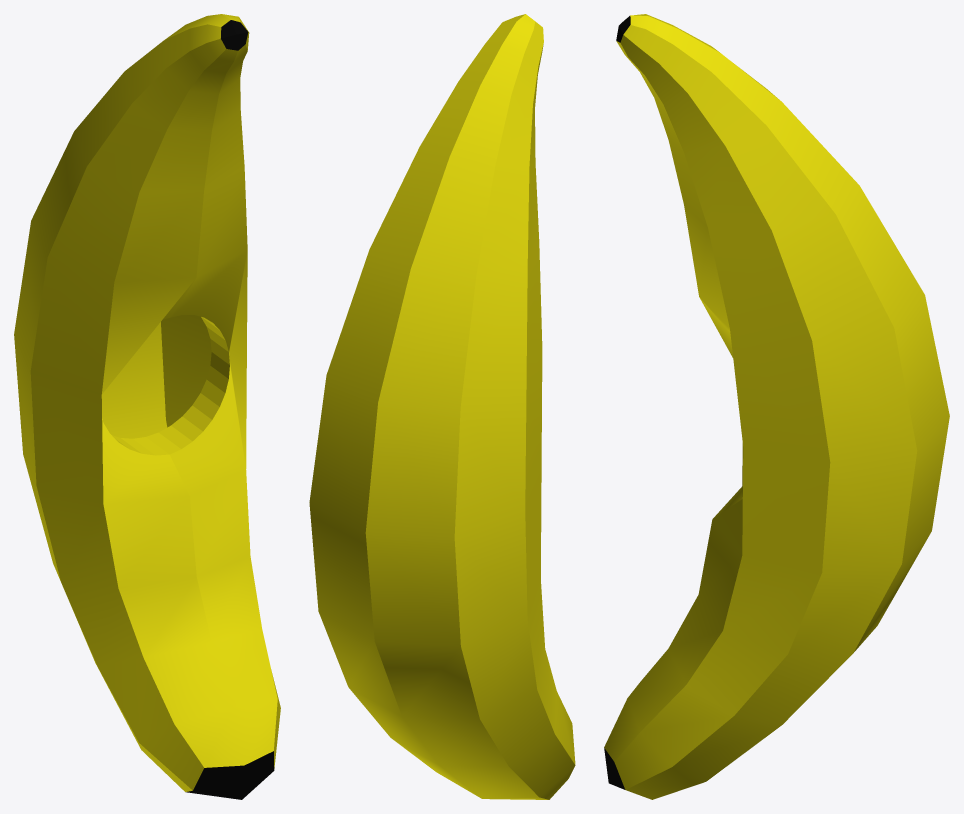
File: Bannana meep.fbx
3 views of the same model, side by side, from view 1: azimuth 30°, elevation 25°; view 2: azimuth 150°, elevation 25°; view 3: azimuth 270°, elevation 25° (orthographic).
Visible parts, largest first — view 1: Cube; view 2: Cube; view 3: Cube.
Boxes of the visible parts, x1,y1,x2,y2 form: Cube: [14, 14, 280, 799]; Cube: [309, 14, 575, 799]; Cube: [604, 14, 949, 799].
Bounding box in the file's own units: 180 × 673 × 271.
